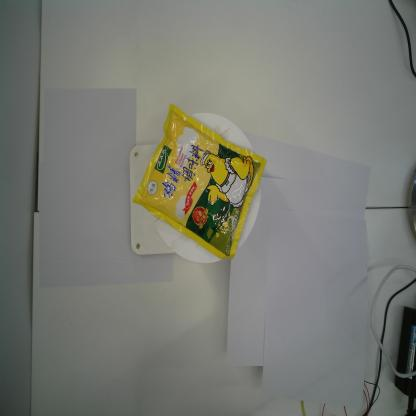Seasoner: (132, 102, 268, 262)
